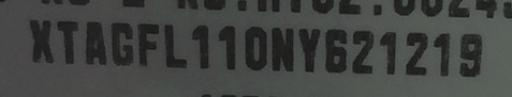letter: (24, 15, 56, 64), (80, 18, 110, 67), (268, 25, 298, 74), (53, 18, 81, 67), (107, 19, 135, 68), (134, 21, 162, 70), (162, 21, 190, 70), (242, 24, 270, 73), (402, 28, 430, 77), (296, 25, 322, 74), (322, 25, 348, 74), (350, 27, 376, 76), (458, 30, 484, 79), (188, 22, 212, 73), (215, 22, 239, 73), (377, 29, 399, 78), (432, 29, 452, 80)
